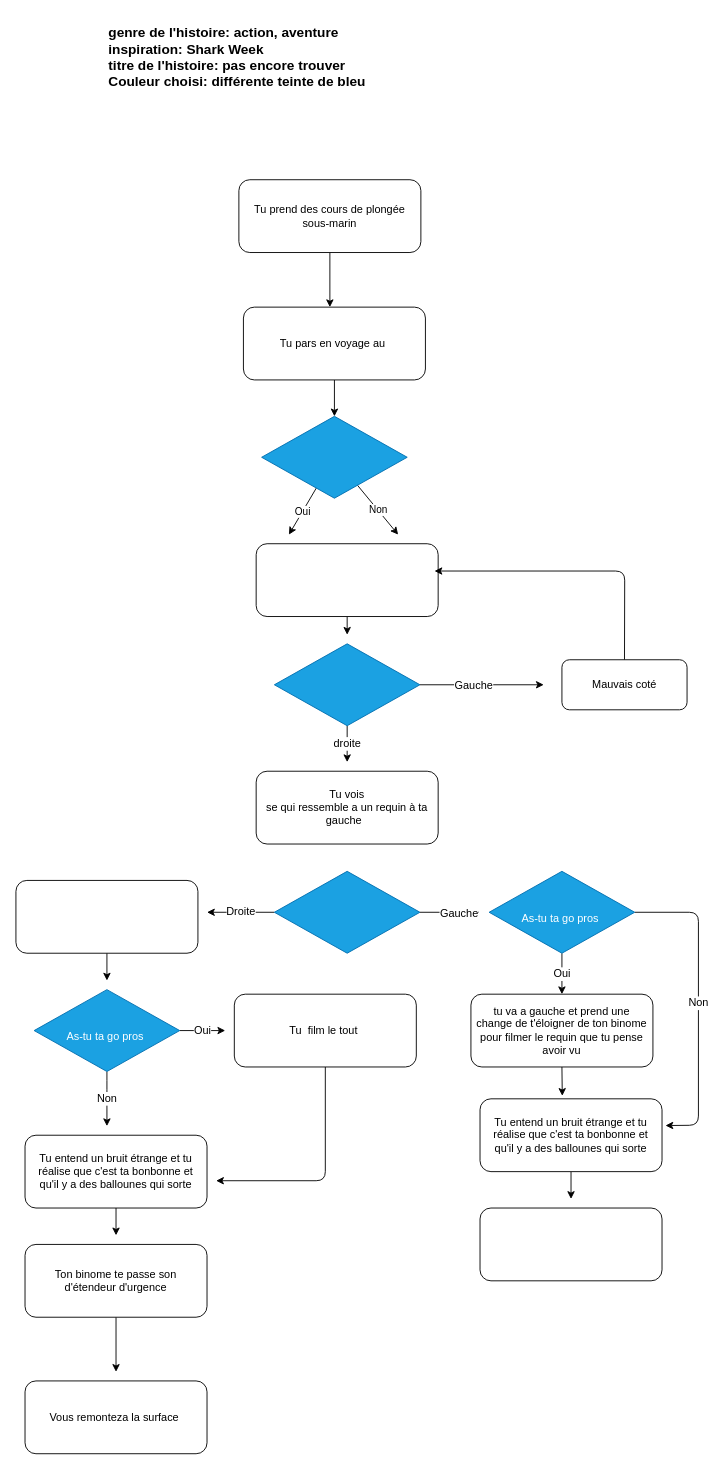
This 724x1470 diagram has some shape labels left out. Here are the shapes that lost their labels. From the top down, the centre of each, then its label:
point 334,456: Apporte tu ta caméra Go Pro
point 346,580: Ton amis te dit que l'épave à explorer est a droite
point 346,684: Vas-tu à droite ou as gauche
point 106,916: Ton binome de fait signe qu'il y a un requin un peu plus loin
point 346,911: aller a gauche ou rester à droite
point 570,1244: Tu meurt
